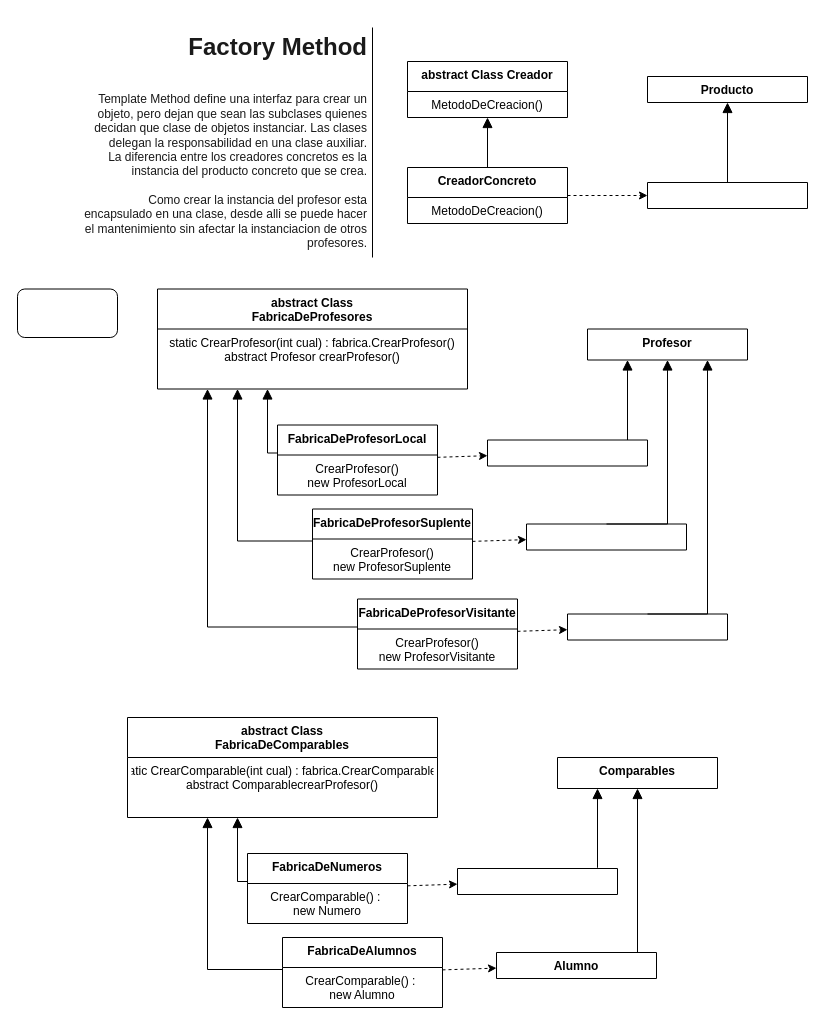
This 825x1027 diagram has some shape labels left out. The shapes that lost their labels are listed below. From the top down, each one's centre as x and y in pixels, then its label:
At point 727,195: "ProductoConcreto".
At point 67,313: "CLIENTE".
At point 567,452: "ProfesorLocal".
At point 606,536: "ProfesorSuplente".
At point 647,626: "ProfesorVisitante".
At point 537,881: "Numero".
